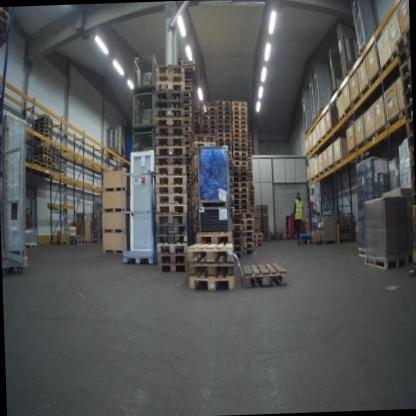pallet: (240, 256, 291, 291), (185, 239, 233, 266), (364, 247, 410, 274), (188, 273, 240, 296), (188, 258, 237, 277), (157, 258, 186, 275), (195, 234, 233, 246), (156, 214, 187, 228), (395, 26, 410, 54), (157, 243, 188, 256), (157, 117, 185, 131), (156, 234, 188, 246), (156, 175, 185, 188), (155, 254, 188, 265), (155, 195, 185, 207), (156, 155, 185, 167), (397, 42, 410, 68), (157, 73, 185, 85), (155, 66, 185, 77), (156, 99, 183, 111), (156, 81, 183, 93), (190, 141, 214, 154), (155, 186, 186, 196), (155, 136, 183, 147), (157, 127, 185, 138), (179, 57, 199, 72), (192, 134, 213, 148), (156, 166, 185, 176), (155, 206, 186, 215), (155, 146, 184, 155), (399, 59, 410, 82), (156, 93, 183, 102), (401, 75, 409, 103), (27, 157, 44, 170), (33, 119, 53, 130), (156, 110, 183, 118), (182, 66, 199, 78), (355, 43, 365, 63), (155, 227, 187, 233), (33, 145, 52, 155), (31, 116, 53, 124), (33, 149, 52, 158), (403, 91, 412, 110), (231, 165, 248, 175), (327, 88, 339, 102), (234, 181, 249, 192), (32, 153, 52, 161), (37, 125, 54, 134), (25, 242, 38, 253), (406, 119, 413, 138), (184, 77, 196, 87), (404, 105, 412, 120), (315, 107, 324, 120), (240, 217, 256, 224), (232, 100, 248, 107), (407, 134, 414, 150), (233, 215, 254, 220), (234, 171, 249, 178), (216, 100, 231, 107), (202, 101, 217, 108), (342, 67, 349, 82), (243, 248, 256, 256), (235, 192, 248, 200), (232, 203, 249, 209), (181, 110, 192, 119), (40, 163, 51, 172), (233, 111, 247, 118), (216, 137, 232, 143), (182, 90, 192, 99), (232, 210, 250, 215), (233, 128, 248, 134), (233, 161, 248, 167), (358, 248, 367, 258), (410, 180, 416, 195), (232, 231, 243, 239), (243, 236, 254, 244), (52, 146, 61, 155), (302, 126, 311, 135), (189, 191, 197, 201), (233, 238, 243, 246), (232, 216, 242, 224), (240, 225, 256, 230), (36, 131, 52, 136), (231, 120, 247, 125), (201, 116, 217, 121), (409, 164, 414, 180), (240, 230, 253, 236), (232, 106, 245, 112), (233, 250, 244, 257), (231, 245, 242, 252), (310, 115, 317, 126), (234, 178, 249, 183), (217, 110, 232, 115), (217, 119, 232, 124), (217, 124, 232, 129), (216, 133, 231, 138), (232, 137, 247, 142), (232, 142, 247, 147), (232, 152, 247, 157), (202, 120, 217, 125), (409, 149, 414, 164), (185, 124, 193, 133), (233, 224, 242, 232), (183, 84, 193, 91), (50, 169, 60, 176), (217, 128, 231, 133), (233, 124, 247, 129), (233, 147, 247, 152), (233, 156, 247, 161), (202, 107, 216, 112), (202, 111, 216, 116), (203, 125, 217, 130), (231, 133, 248, 137), (243, 243, 256, 248), (235, 189, 248, 194), (216, 115, 232, 119), (231, 117, 247, 121), (412, 220, 416, 236), (190, 185, 197, 194), (190, 199, 197, 208), (190, 150, 196, 160), (190, 156, 195, 168), (233, 200, 248, 204), (41, 134, 51, 140), (40, 159, 52, 164), (50, 159, 60, 165), (216, 106, 231, 110), (203, 130, 215, 135), (252, 233, 263, 238), (50, 163, 61, 168), (183, 97, 192, 103), (51, 152, 60, 158), (219, 143, 232, 147), (186, 157, 191, 167), (190, 163, 195, 173), (185, 133, 192, 140), (184, 104, 192, 110), (185, 119, 193, 125), (51, 156, 59, 162), (413, 251, 416, 267), (254, 238, 263, 243), (412, 205, 415, 220), (413, 237, 416, 251), (186, 151, 191, 159), (192, 205, 197, 213), (186, 140, 191, 147), (186, 167, 191, 173), (185, 147, 191, 151)
pallet_truck: (280, 205, 298, 240), (292, 213, 307, 244)
stillage: (117, 168, 158, 265), (194, 143, 232, 208), (128, 88, 159, 134), (198, 206, 232, 240), (129, 54, 155, 90), (130, 130, 157, 159), (334, 211, 356, 246)
